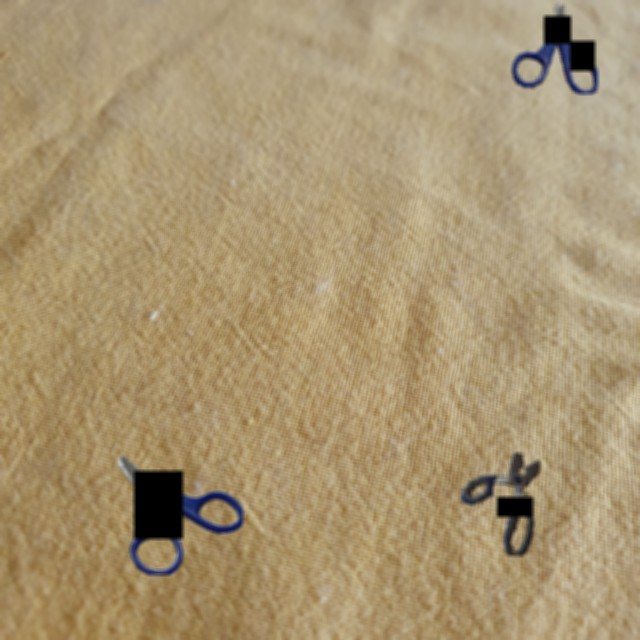scissors: (117, 455, 243, 575), (460, 452, 540, 556), (512, 3, 598, 94)
